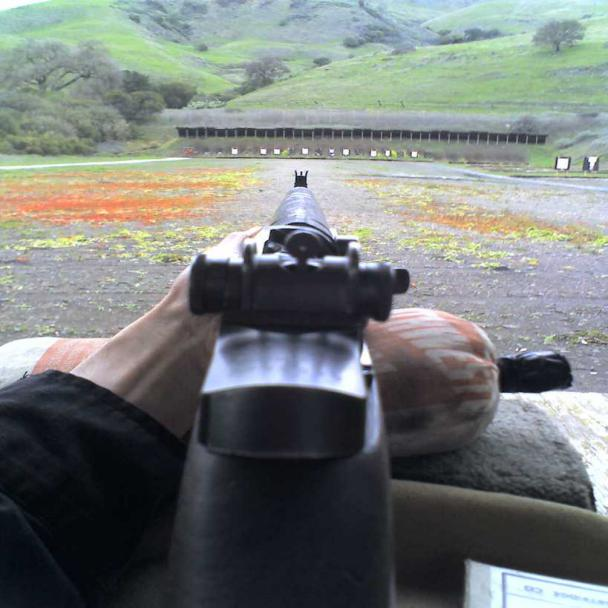Gun: (150, 160, 471, 602)
